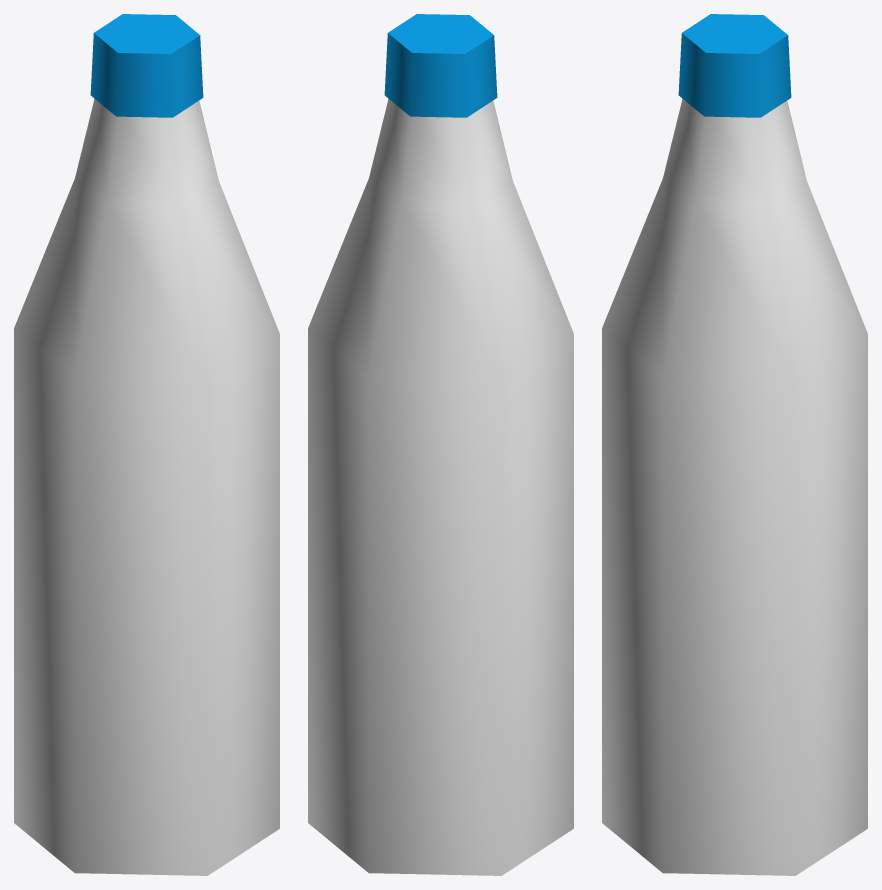
The model's file is Comida3.obj.
3 renders of one model, left to right at view 1: azimuth 30°, elevation 25°; view 2: azimuth 150°, elevation 25°; view 3: azimuth 270°, elevation 25°, orthographic.
Visible parts, largest first — view 1: drink_002; view 2: drink_002; view 3: drink_002.
Boxes of the visible parts, <box> form: drink_002: <box>14,14,279,875</box>; drink_002: <box>308,14,573,875</box>; drink_002: <box>602,14,867,875</box>.
Size of the model in its own units: 0.7196 by 2.66 by 0.8076.
Materials: 1 (1 with a texture image).
